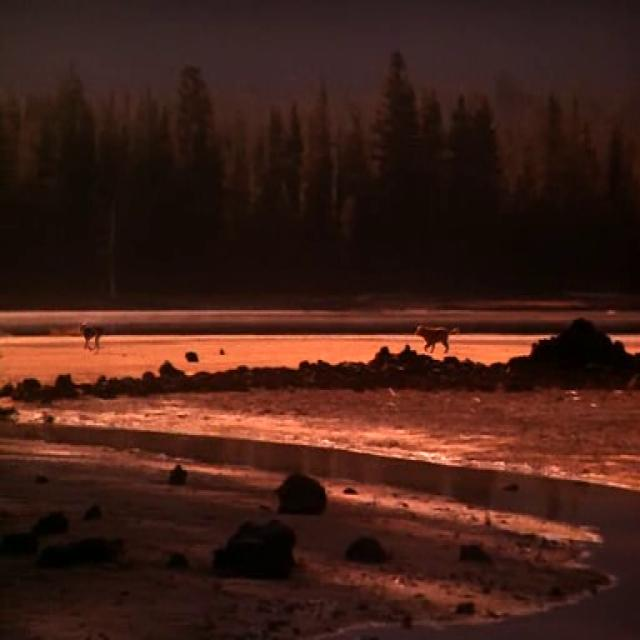Dog: (409, 306, 464, 366)
